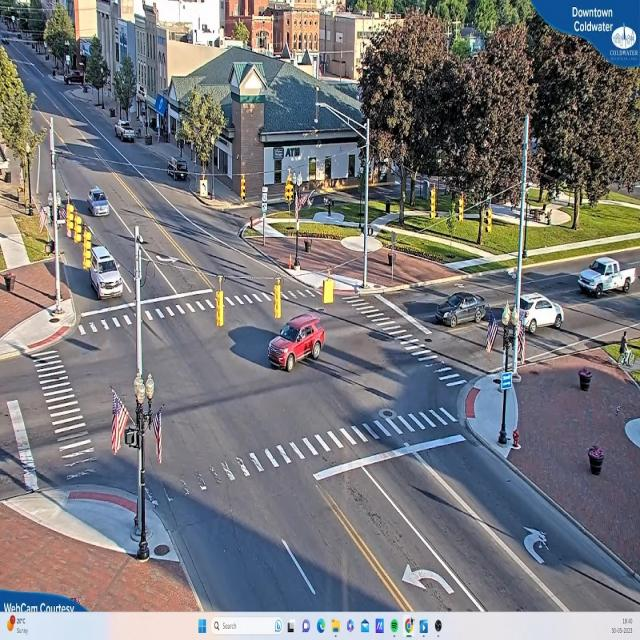car: (268, 317, 323, 371), (579, 258, 630, 297), (433, 294, 489, 329), (88, 245, 122, 297), (87, 188, 111, 217), (164, 159, 190, 180), (115, 123, 136, 143)
